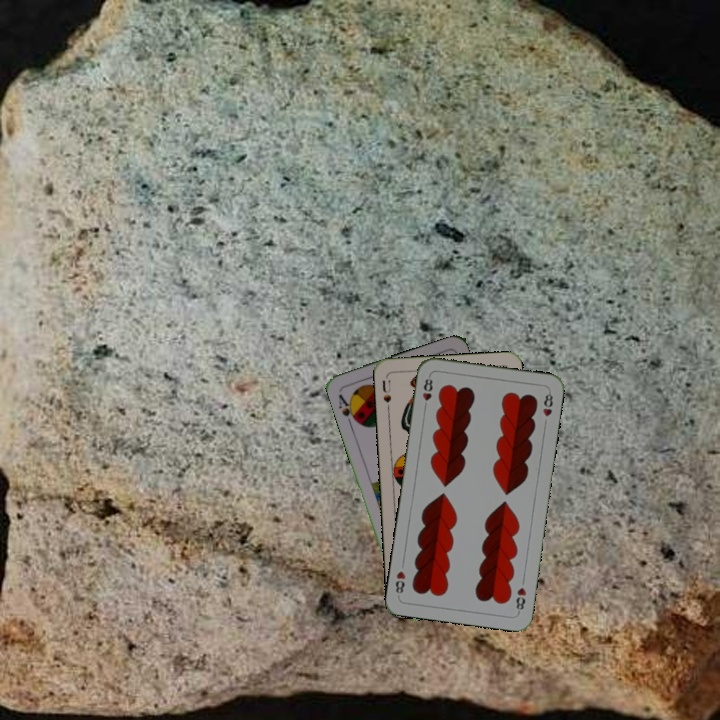H8: (418, 372, 435, 412), (512, 583, 529, 615)
SA: (334, 390, 360, 427)
SU: (378, 376, 393, 414)
